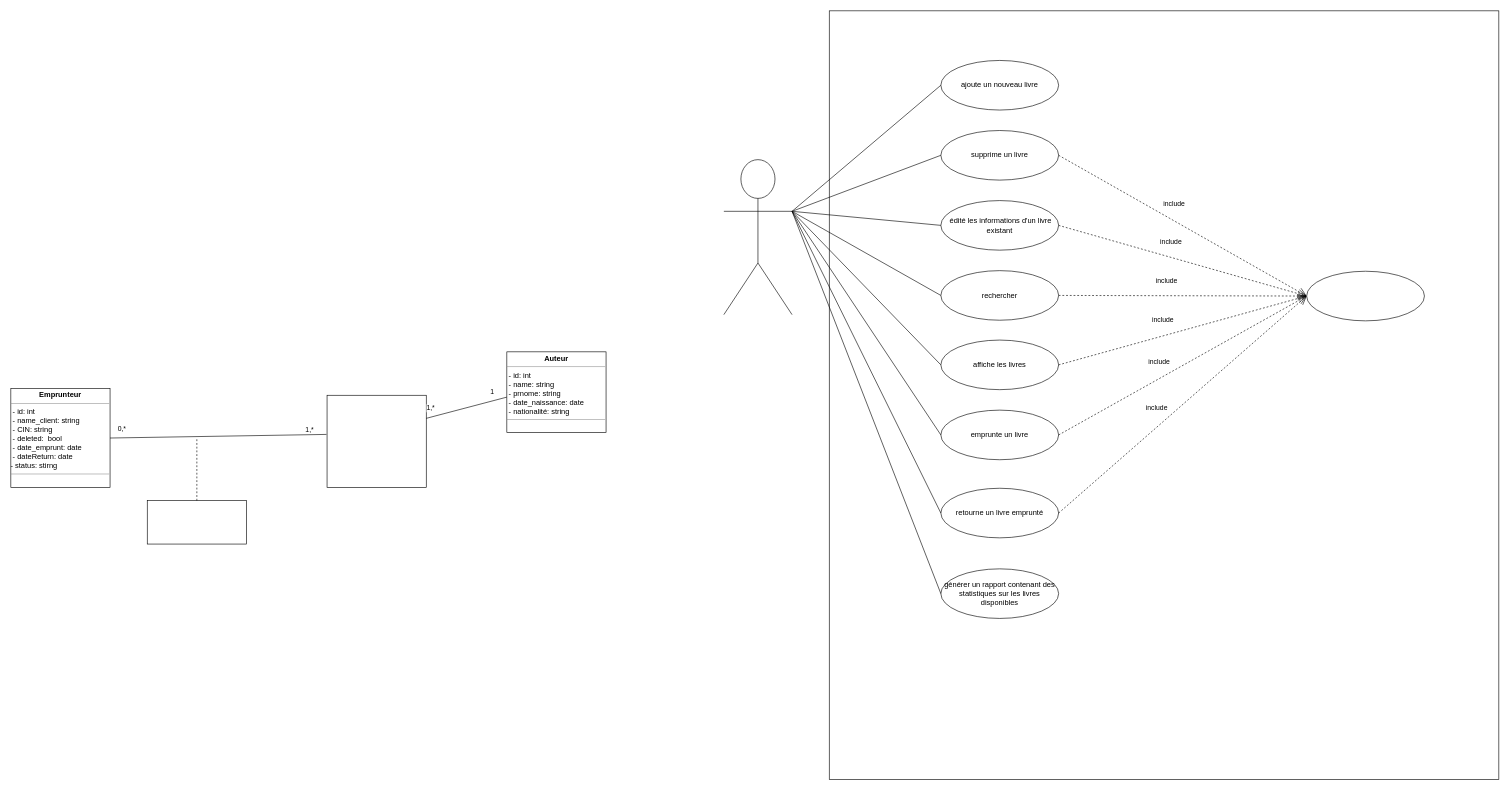
Some shapes in this 1510 by 791 pixel diagram are drawn without their labels. Each missing label, with the centre of its shape:
"Emprunteur_livre - id: int" goes at (x=196, y=522).
"livre - id:int - titre: string - ISBN: long - quantite: int" goes at (x=376, y=441).
"Utilisateur" goes at (x=757, y=237).
"vérifié livre" goes at (x=1365, y=296).
